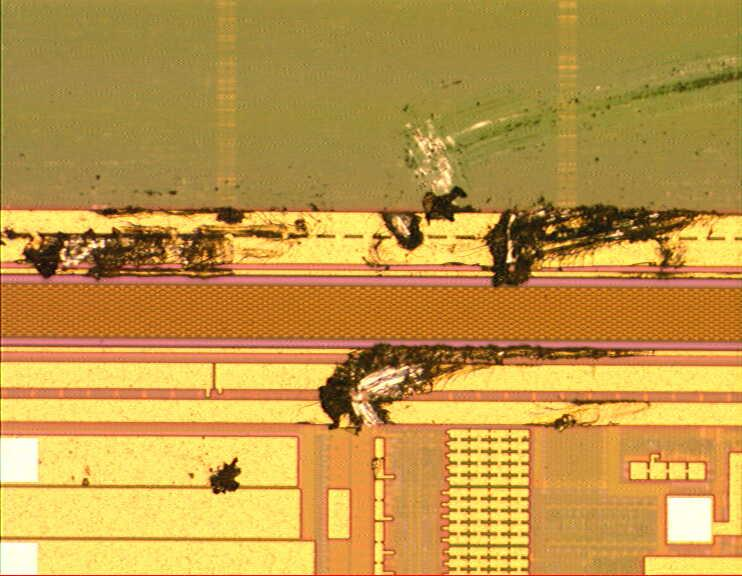SCRATCH: (1, 52, 742, 514)
